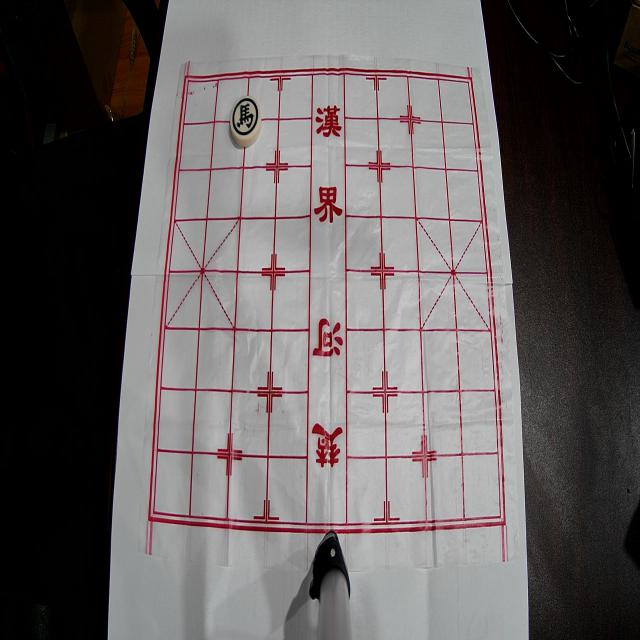black-horse: (230, 96, 262, 147)
